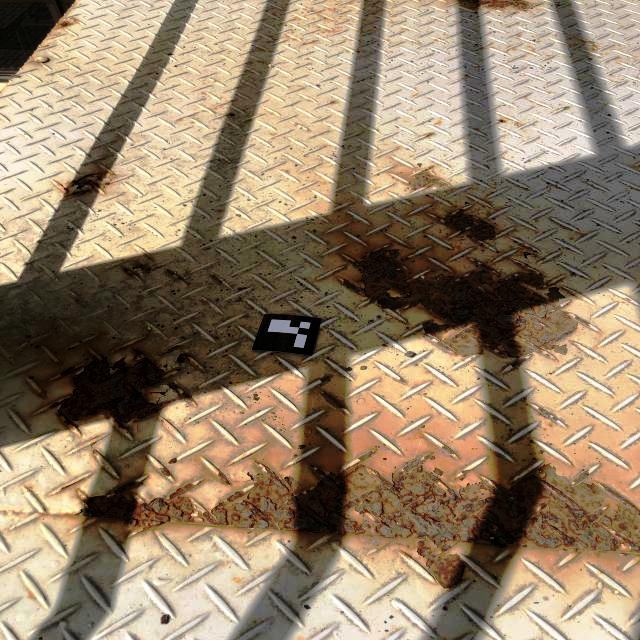Corrosion: (80, 451, 640, 588), (340, 247, 598, 370), (40, 351, 171, 431), (437, 208, 498, 242), (61, 172, 114, 196), (405, 164, 450, 190), (321, 391, 348, 409), (537, 406, 561, 422), (57, 478, 83, 491), (165, 268, 187, 282), (175, 353, 195, 365), (216, 472, 231, 486), (129, 263, 151, 272), (442, 444, 456, 456), (181, 391, 195, 403), (55, 21, 74, 29), (159, 466, 171, 477), (121, 268, 137, 276), (165, 345, 181, 353), (585, 40, 596, 51), (166, 383, 179, 392), (318, 375, 331, 383), (523, 251, 534, 260), (398, 376, 404, 383), (71, 17, 79, 22), (92, 449, 97, 456), (426, 132, 433, 137), (563, 107, 569, 111), (500, 120, 506, 123)
